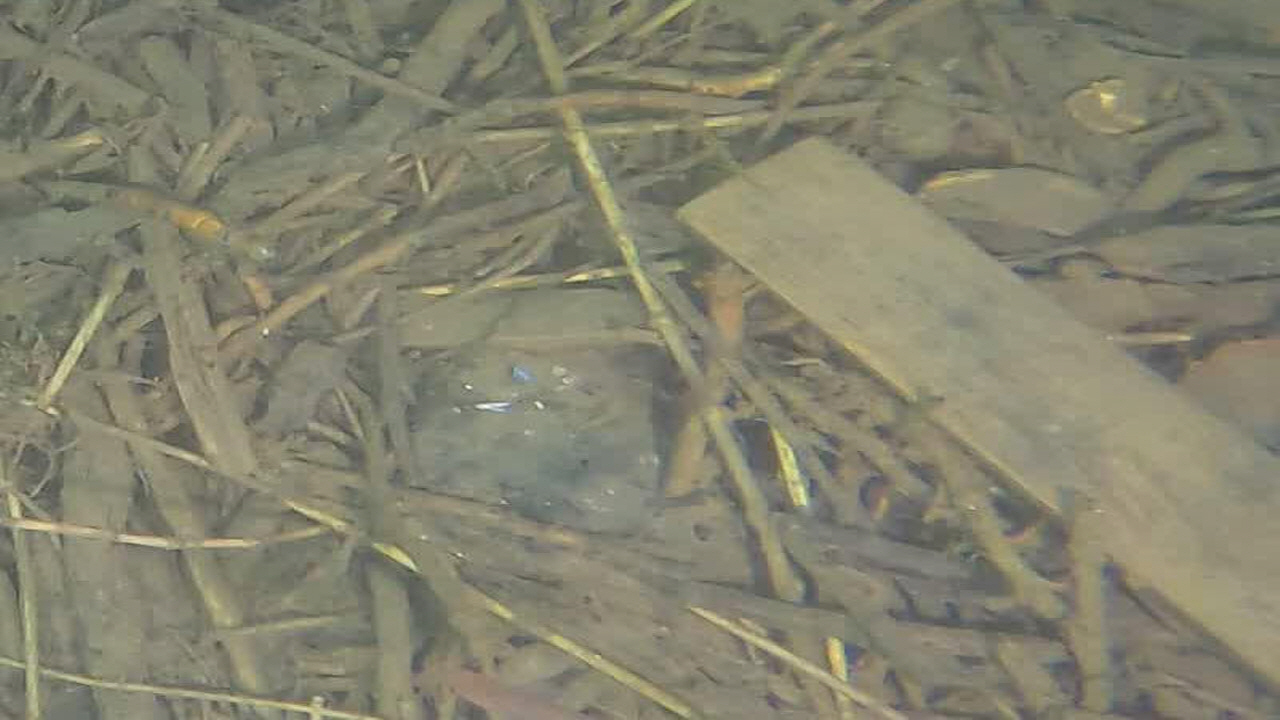wood: (673, 135, 1280, 697)
